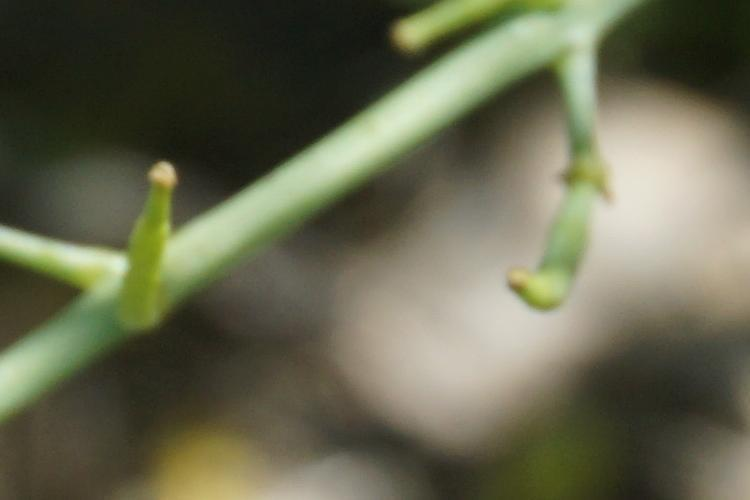pod: (435, 148, 627, 323), (85, 156, 186, 313)
